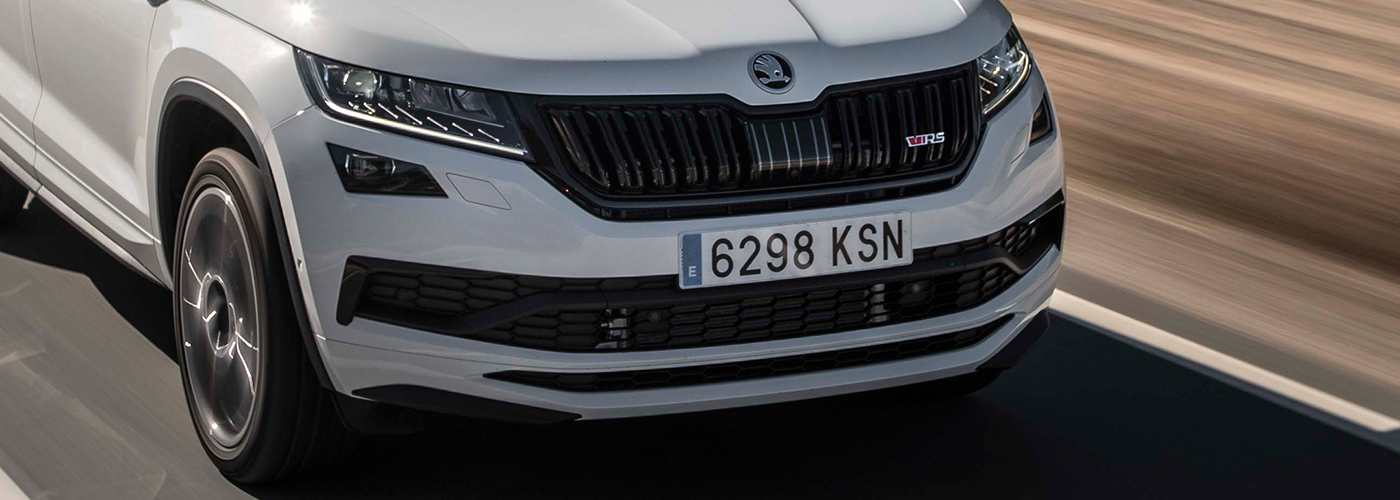license_plate: (678, 210, 913, 289)
